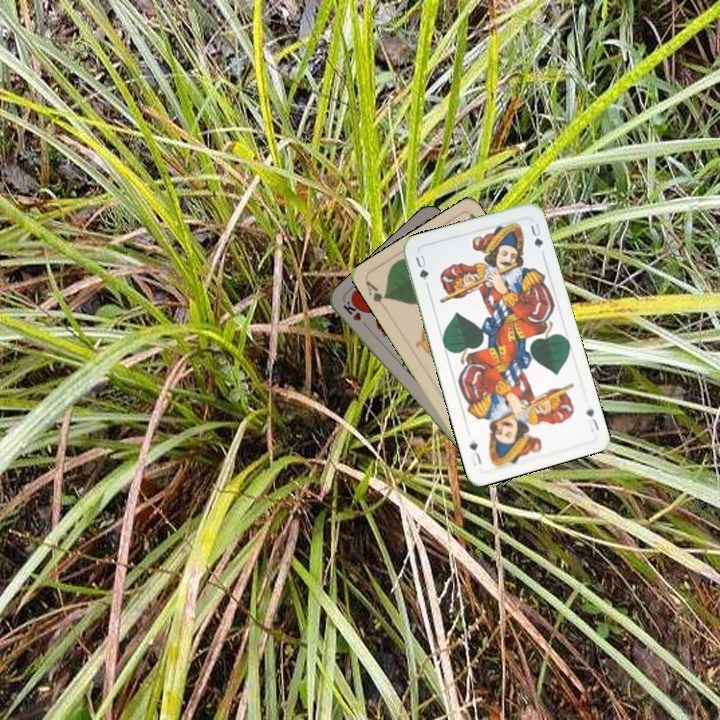GA: (361, 277, 391, 313)
GU: (411, 251, 431, 283), (582, 404, 602, 435)
HK: (339, 297, 372, 332)
